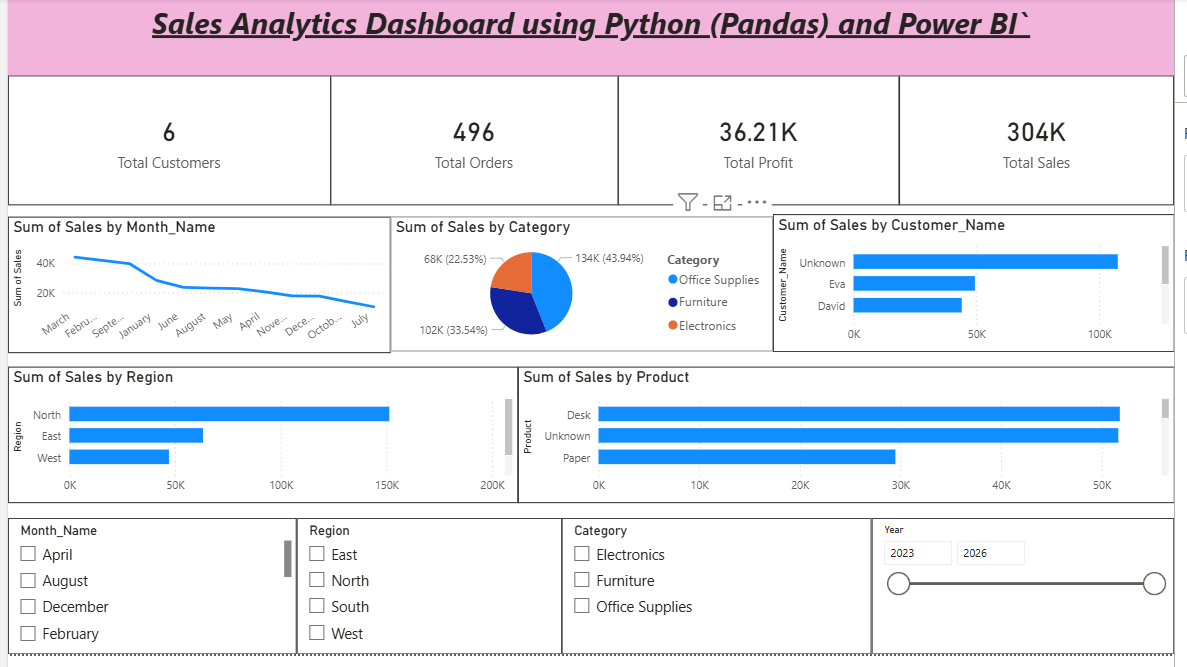

The dashboard page shown, as its layout file describes it:
{"tool":"powerbi","page":{"name":"Page 1","canvas":[1280,720],"ordinal":0},"visuals":[{"type":"card","fields":{"Values":["Sheet1.Total Customers"]},"box":[0,85.1,354,142.7],"z":0},{"type":"card","fields":{"Values":["Sheet1.Total Orders"]},"box":[354,85.1,315.6,142.7],"z":1},{"type":"card","fields":{"Values":["Sheet1.Total Profit"]},"box":[669.6,85.1,308.7,142.7],"z":2},{"type":"card","fields":{"Values":["Sheet1.Total Sales"]},"box":[978.4,85.1,301.9,142.7],"z":3},{"type":"lineChart","fields":{"Category":["Sheet1.Month_Name"],"Y":["Sum(Sheet1.Sales)"]},"box":[0,240.1,419.9,149.6],"z":4},{"type":"clusteredBarChart","fields":{"Category":["Sheet1.Region"],"Y":["Sum(Sheet1.Sales)"]},"box":[0,404.8,559.9,149.6],"z":5},{"type":"pieChart","fields":{"Category":["Sheet1.Category"],"Y":["Sum(Sheet1.Sales)"]},"box":[419.9,240.1,419.9,148.2],"z":6},{"type":"barChart","fields":{"Category":["Sheet1.Product"],"Y":["Sum(Sheet1.Sales)"]},"box":[559.9,404.8,720.4,149.6],"z":7},{"type":"clusteredBarChart","fields":{"Category":["Sheet1.Customer_Name"],"Y":["Sum(Sheet1.Sales)"]},"box":[839.8,237.4,440.5,150.9],"z":8},{"type":"slicer","fields":{"Values":["Sheet1.Month_Name"]},"box":[0,570.8,317,149.6],"z":9},{"type":"slicer","fields":{"Values":["Sheet1.Region"]},"box":[317,570.8,290.9,149.6],"z":10},{"type":"slicer","fields":{"Values":["Sheet1.Category"]},"box":[607.9,570.8,340.3,149.6],"z":11},{"type":"slicer","fields":{"Values":["Sheet1.Year"]},"box":[948.2,570.8,332.1,149.6],"z":12},{"type":"textbox","box":[0,0,1280.3,85.1],"z":13}]}

Visuals, with their boxes in screenshot pixels (x1, y1, x2, y2), scaled from the page's 1280x720 canvas onto the 1187x667 screenshot:
card - Sheet1.Total Customers: 0, 79, 328, 211
card - Sheet1.Total Orders: 328, 79, 621, 211
card - Sheet1.Total Profit: 621, 79, 907, 211
card - Sheet1.Total Sales: 907, 79, 1186, 211
lineChart - Sheet1.Month_Name x Sum(Sheet1.Sales): 0, 222, 389, 361
clusteredBarChart - Sheet1.Region x Sum(Sheet1.Sales): 0, 375, 519, 514
pieChart - Sheet1.Category x Sum(Sheet1.Sales): 389, 222, 779, 360
barChart - Sheet1.Product x Sum(Sheet1.Sales): 519, 375, 1186, 514
clusteredBarChart - Sheet1.Customer_Name x Sum(Sheet1.Sales): 779, 220, 1186, 360
slicer - Sheet1.Month_Name: 0, 529, 294, 666
slicer - Sheet1.Region: 294, 529, 564, 666
slicer - Sheet1.Category: 564, 529, 879, 666
slicer - Sheet1.Year: 879, 529, 1186, 666
textbox: 0, 0, 1186, 79
